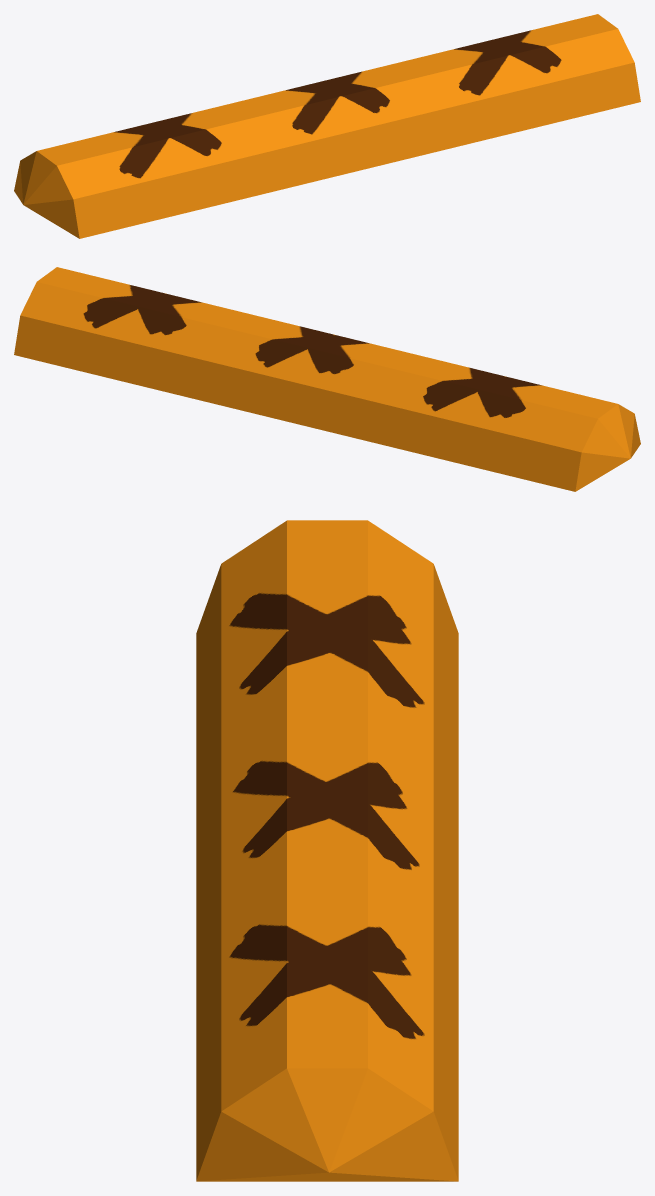
File: yut.glb
3 renders of one model, top to bottom at view 1: azimuth 30°, elevation 25°; view 2: azimuth 150°, elevation 25°; view 3: azimuth 270°, elevation 25°, orthographic. The views are drawn at different scales.
Visible parts, largest first — view 1: Cylinder.007; view 2: Cylinder.007; view 3: Cylinder.007.
Part boxes in pixels (box(x1,y1,x2,y2)): Cylinder.007: box(14, 14, 640, 238); Cylinder.007: box(14, 267, 640, 491); Cylinder.007: box(196, 520, 458, 1181).
Size of the model in its own units: 10.67 by 0.9511 by 2.
1 material, 1 textured.
